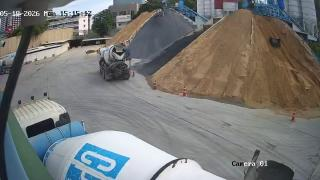cement_mixer_truck: (12, 92, 295, 180), (98, 42, 131, 81), (0, 53, 15, 75)
